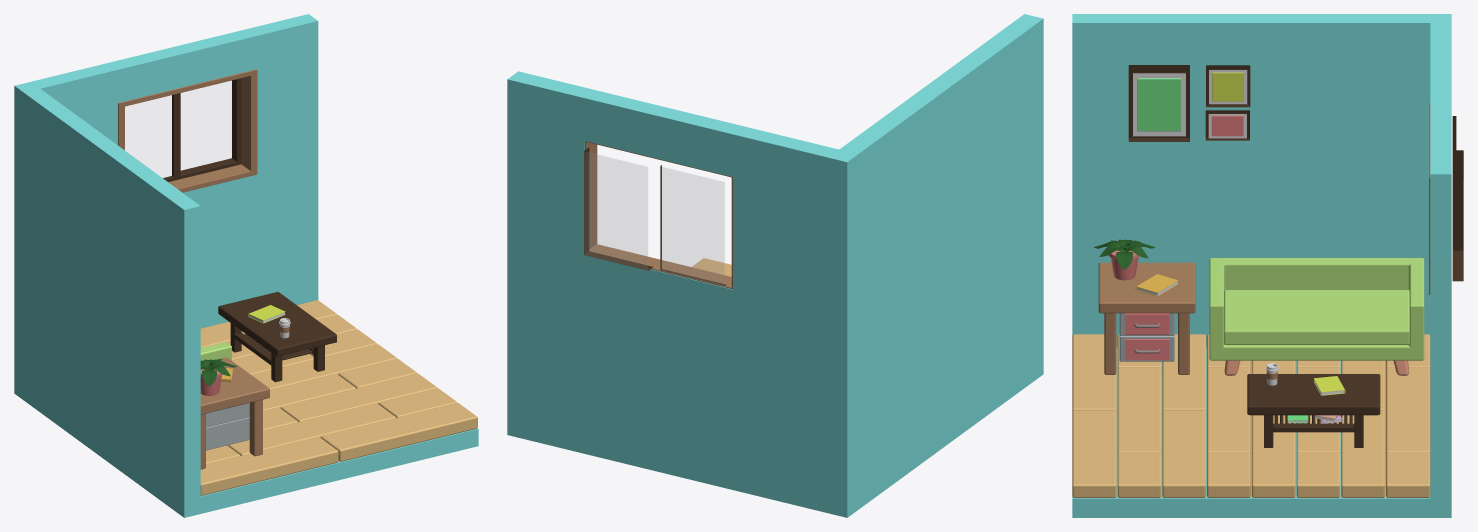
Rendered from room.glb.
3 views of the same model, side by side, from view 1: azimuth 30°, elevation 25°; view 2: azimuth 150°, elevation 25°; view 3: azimuth 270°, elevation 25° (orthographic). The views are drawn at different scales.
Visible parts, largest first — view 1: Cube, Cube.001, Cube.004, Plane.003, Cube.003, Plane.006, Plane.007, Plane.011, Plane.004, Plane.008; view 2: Cube, Cube.004, Cube.003; view 3: Cube, Cube.001, Plane, Plane.001, Plane.003, Plane.028, Plane.006, Plane.029, Cube.004, Plane.007, Plane.030, Plane.012 (+7 smaller).
Boxes of the visible parts, box(x1,y1,x2,y2) form: Cube: box(14, 14, 478, 517); Cube.001: box(200, 300, 477, 495); Cube.004: box(125, 78, 241, 181); Plane.003: box(218, 292, 336, 356); Cube.003: box(118, 69, 257, 192); Plane.006: box(200, 357, 269, 414); Plane.007: box(200, 399, 262, 469); Plane.011: box(206, 417, 249, 450); Plane.004: box(230, 323, 324, 382); Plane.008: box(206, 403, 249, 427); Cube: box(507, 14, 1043, 517); Cube.004: box(584, 147, 726, 285); Cube.003: box(585, 141, 732, 288); Cube: box(1072, 14, 1451, 517); Cube.001: box(1072, 334, 1430, 497); Plane: box(1209, 258, 1424, 360); Plane.001: box(1224, 290, 1409, 344); Plane.003: box(1247, 374, 1380, 415); Plane.028: box(1128, 65, 1189, 141); Plane.006: box(1098, 262, 1195, 313); Plane.029: box(1206, 65, 1250, 107); Cube.004: box(1452, 116, 1463, 281); Plane.007: box(1104, 313, 1189, 374); Plane.030: box(1205, 110, 1249, 140); Plane.012: box(1125, 339, 1169, 360).
Bounding box in the file's own units: 2.12 × 2.12 × 2.19.
